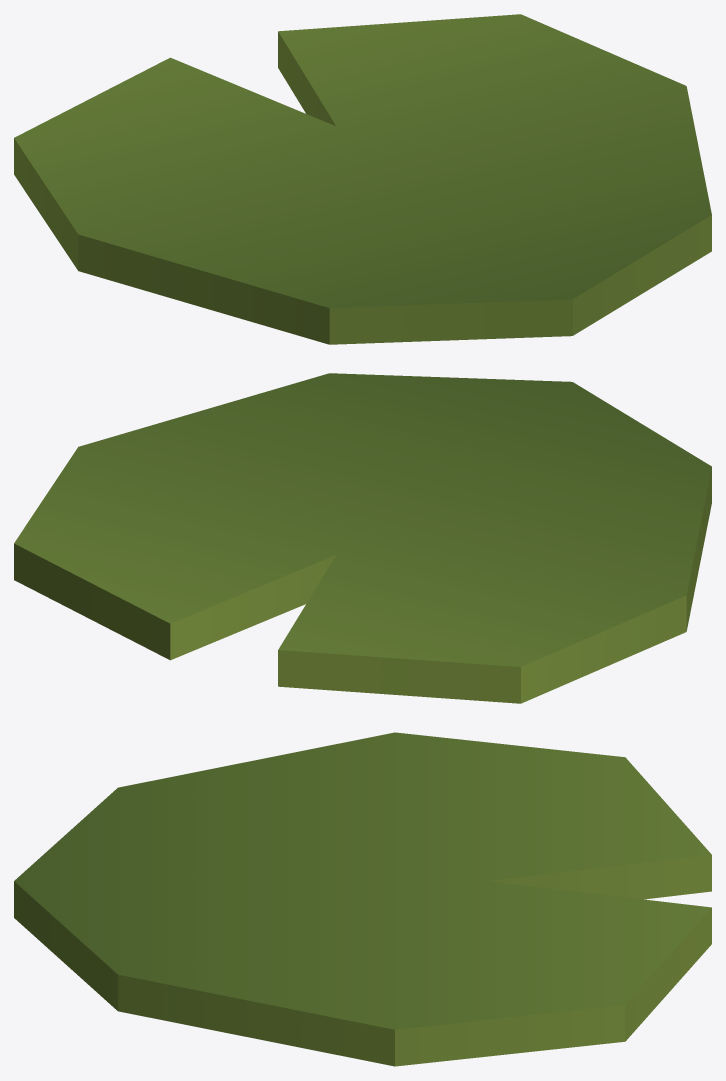
File: PondPlant_01.fbx
3 renders of one model, top to bottom at view 1: azimuth 30°, elevation 25°; view 2: azimuth 150°, elevation 25°; view 3: azimuth 270°, elevation 25°, orthographic.
Parts seen in each view (by area): view 1: PondPlant_01_LOD0; view 2: PondPlant_01_LOD0; view 3: PondPlant_01_LOD0.
Part boxes in pixels (x1,y1,x2,y2): PondPlant_01_LOD0: [14, 14, 711, 344]; PondPlant_01_LOD0: [14, 373, 711, 703]; PondPlant_01_LOD0: [14, 732, 711, 1066].
Size of what is drawn, in the model's own units: 0.1737 by 0.01 by 0.1723.
